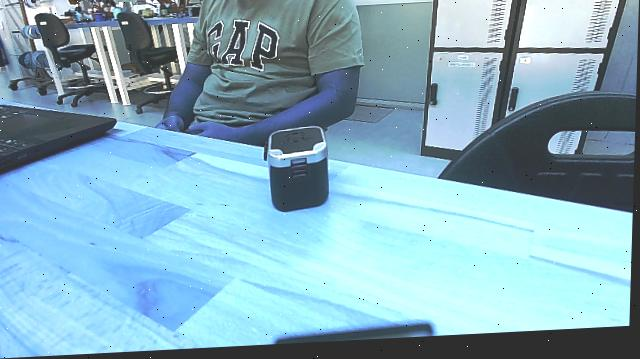adapter: (257, 127, 336, 222)
